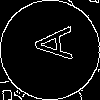A: (25, 25, 72, 62)
